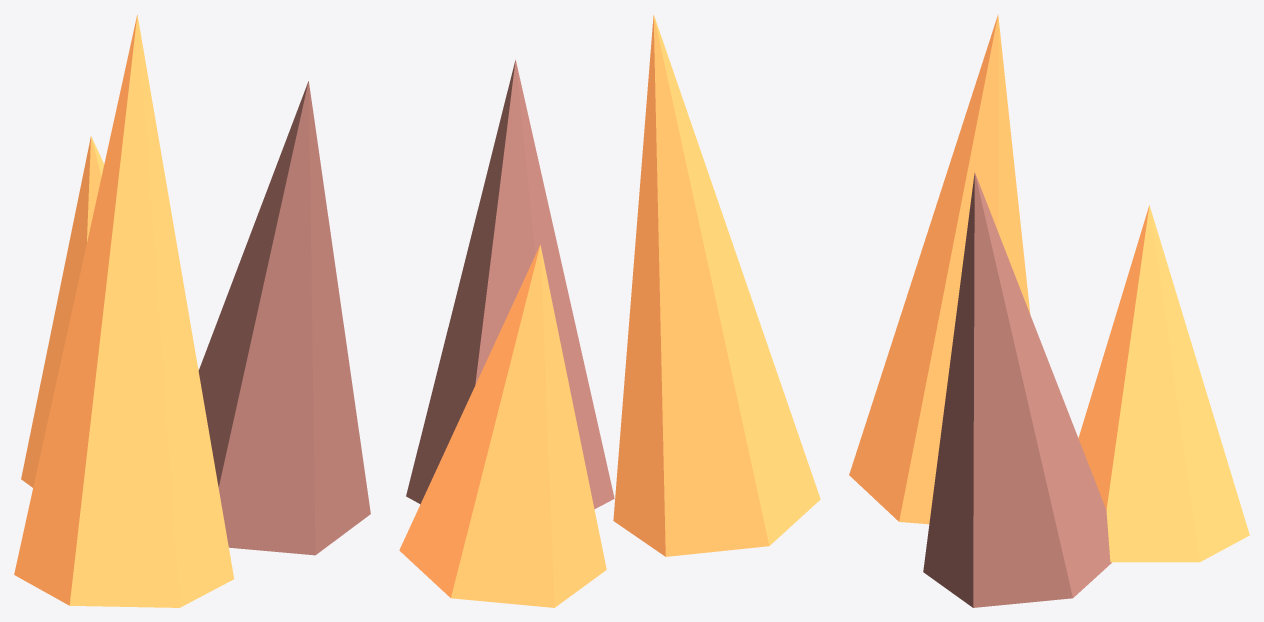
The model's file is ember_crystal_a.glb.
3 renders of one model, left to right at view 1: azimuth 30°, elevation 25°; view 2: azimuth 150°, elevation 25°; view 3: azimuth 270°, elevation 25°, orthographic. The views are drawn at different scales.
Parts seen in each view (by area): view 1: Crystal_02, Crystal_01, Crystal_00; view 2: Crystal_02, Crystal_00, Crystal_01; view 3: Crystal_01, Crystal_00, Crystal_02.
Boxes of the visible parts, left/top/right/bottom form: Crystal_02: left=14, top=15, right=234, bottom=607; Crystal_01: left=198, top=81, right=370, bottom=555; Crystal_00: left=21, top=136, right=198, bottom=487; Crystal_02: left=613, top=15, right=820, bottom=556; Crystal_00: left=399, top=244, right=606, bottom=607; Crystal_01: left=406, top=60, right=614, bottom=509; Crystal_01: left=923, top=172, right=1111, bottom=607; Crystal_00: left=1078, top=205, right=1249, bottom=562; Crystal_02: left=849, top=14, right=1030, bottom=524.
Bounding box in the file's own units: 1.87 × 2.84 × 2.07.
